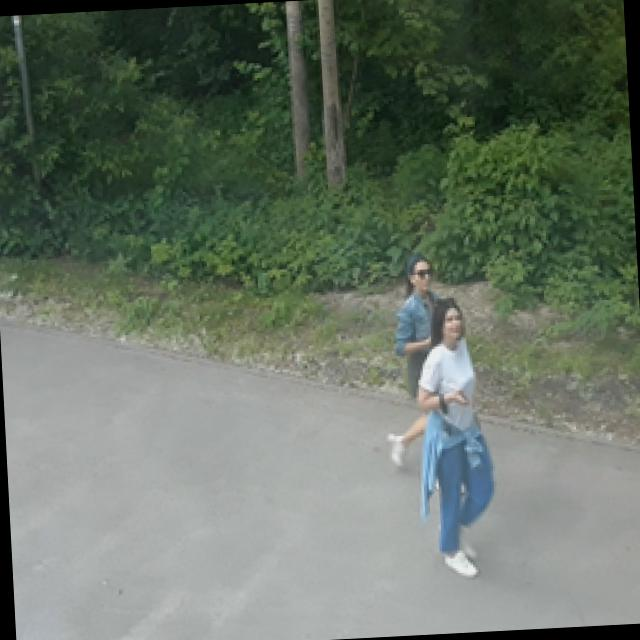person: (404, 294, 501, 580), (374, 254, 453, 472)
